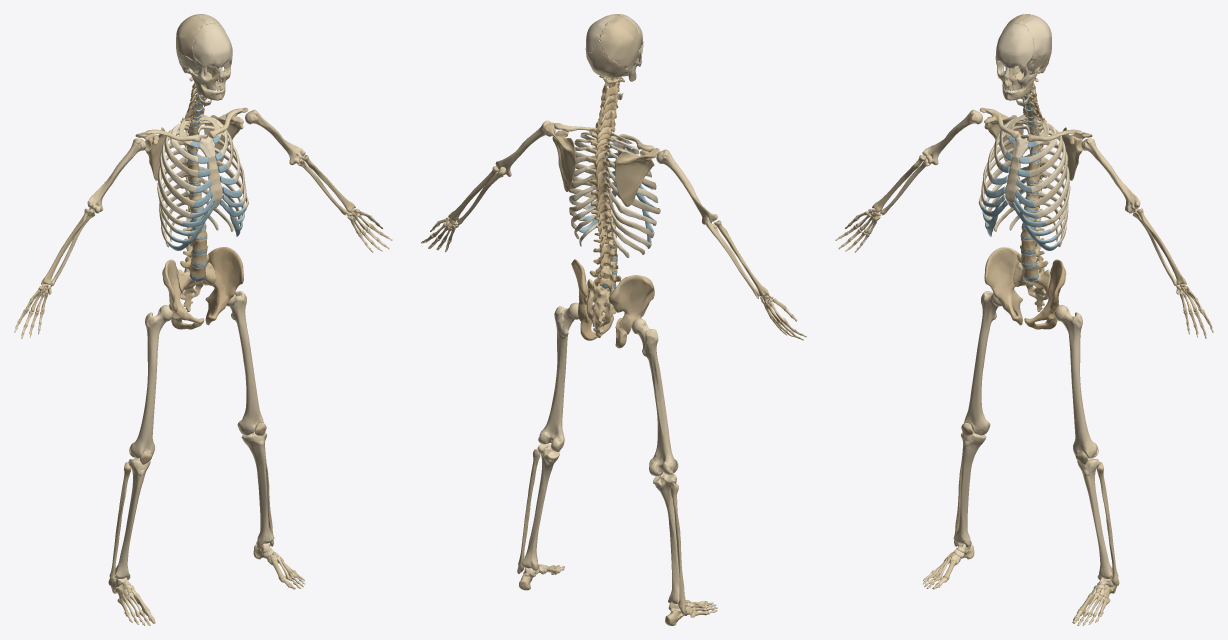
Rendered from skeleton.glb.
The picture shows the model from 3 angles, left to right: view 1: azimuth 30°, elevation 25°; view 2: azimuth 150°, elevation 25°; view 3: azimuth 330°, elevation 25°; orthographic projection. The views are drawn at different scales.
Visible parts, largest first — view 1: right-femur, left-femur, left-hip-bone, frontal-bone, left-tibia, right-tibia, right-hip-bone, right-parietal-bone, sacrum, right-humerus, left-humerus, right-fibula (+2 smaller); view 2: right-femur, left-femur, right-hip-bone, right-parietal-bone, right-scapula, left-tibia, right-tibia, sacrum, left-scapula, left-hip-bone, right-humerus, occipital-bone (+4 smaller); view 3: left-femur, right-femur, right-hip-bone, frontal-bone, right-tibia, left-tibia, left-hip-bone, left-parietal-bone, sacrum, left-humerus, right-humerus, left-scapula (+2 smaller).
Boxes of the visible parts, x1,y1,x2,y2 form: right-femur: [129, 305, 173, 458]; left-femur: [226, 291, 263, 435]; left-hip-bone: [205, 247, 243, 325]; frontal-bone: [193, 23, 232, 69]; left-tibia: [241, 431, 273, 547]; right-tibia: [115, 458, 150, 579]; right-hip-bone: [162, 259, 204, 329]; right-parietal-bone: [176, 14, 207, 61]; sacrum: [177, 262, 215, 311]; right-humerus: [87, 138, 146, 213]; left-humerus: [245, 109, 305, 165]; right-fibula: [108, 462, 131, 585]; right-femur: [632, 318, 675, 475]; left-femur: [538, 302, 578, 451]; right-hip-bone: [609, 275, 654, 348]; right-parietal-bone: [599, 15, 641, 68]; right-scapula: [615, 148, 659, 206]; left-tibia: [522, 443, 559, 570]; right-tibia: [653, 473, 685, 603]; sacrum: [586, 279, 615, 337]; left-scapula: [544, 122, 575, 191]; left-hip-bone: [571, 259, 613, 340]; right-humerus: [656, 149, 717, 224]; occipital-bone: [586, 46, 625, 78]; left-femur: [1054, 305, 1098, 458]; right-femur: [964, 291, 1002, 435]; right-hip-bone: [984, 247, 1022, 325]; frontal-bone: [995, 23, 1034, 68]; right-tibia: [954, 431, 986, 547]; left-tibia: [1077, 458, 1112, 579]; left-hip-bone: [1024, 259, 1066, 329]; left-parietal-bone: [1019, 15, 1051, 60]; sacrum: [1013, 262, 1050, 311]; left-humerus: [1081, 138, 1140, 213]; right-humerus: [922, 109, 982, 165]; left-scapula: [1062, 127, 1092, 180].
Bounding box in the file's own units: 1.27 × 1.83 × 0.2393.
